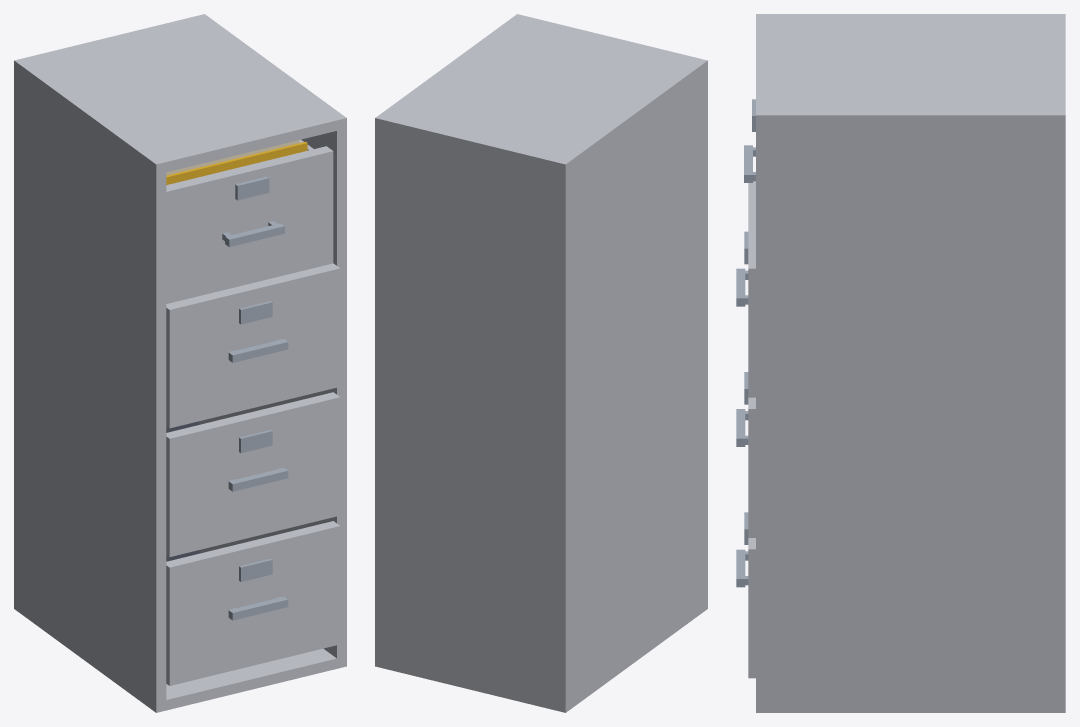
Rendered from filing-cabinet.glb.
3 renders of one model, left to right at view 1: azimuth 30°, elevation 25°; view 2: azimuth 150°, elevation 25°; view 3: azimuth 270°, elevation 25°, orthographic. The views are drawn at different scales.
Parts seen in each view (by area): view 1: Cabinet shell, Cabinet drawers, Top drawer, Cabinet handles, Folders, Top drawer handle; view 2: Cabinet shell; view 3: Cabinet shell, Cabinet drawers, Cabinet handles, Top drawer handle.
Part boxes in pixels (<box>): Cabinet shell: <box>14,14,346,712</box>; Cabinet drawers: <box>166,263,340,685</box>; Top drawer: <box>166,139,333,303</box>; Cabinet handles: <box>228,301,288,620</box>; Folders: <box>166,140,307,184</box>; Top drawer handle: <box>222,176,284,247</box>; Cabinet shell: <box>375,14,707,712</box>; Cabinet shell: <box>756,14,1065,712</box>; Cabinet drawers: <box>748,181,755,678</box>; Cabinet handles: <box>736,231,748,587</box>; Top drawer handle: <box>744,99,755,182</box>.
Bounding box in the file's own units: 0.48 × 1.32 × 0.659.
